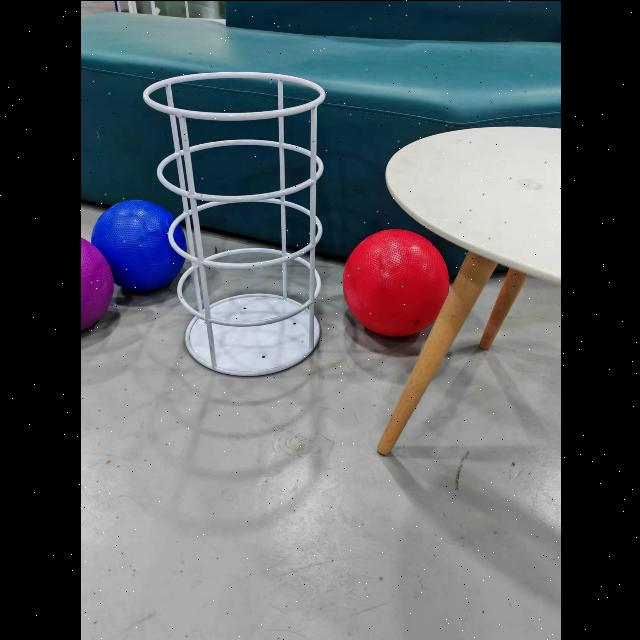B: (90, 199, 184, 291), (79, 237, 112, 330)
R: (342, 228, 448, 335)
S: (141, 71, 324, 375)
